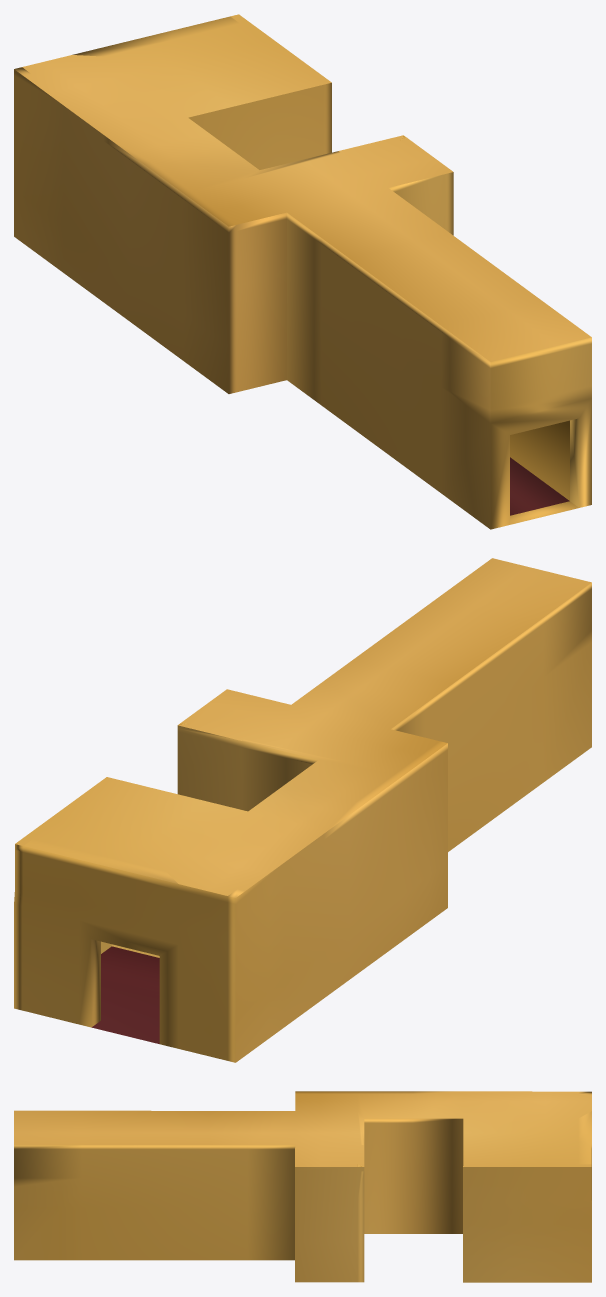
File: hab3.fbx
3 views of the same model, one above another, from view 1: azimuth 30°, elevation 25°; view 2: azimuth 150°, elevation 25°; view 3: azimuth 270°, elevation 25° (orthographic). The views are drawn at different scales.
Parts seen in each view (by area): view 1: pPlane6; view 2: pPlane6; view 3: pPlane6.
Boxes of the visible parts, <box> form: pPlane6: <box>14,14,591,529</box>; pPlane6: <box>14,558,591,1062</box>; pPlane6: <box>14,1091,591,1282</box>.
Bounding box in the file's own units: 29.89 × 21.18 × 96.1.
3 materials, 3 textured.
